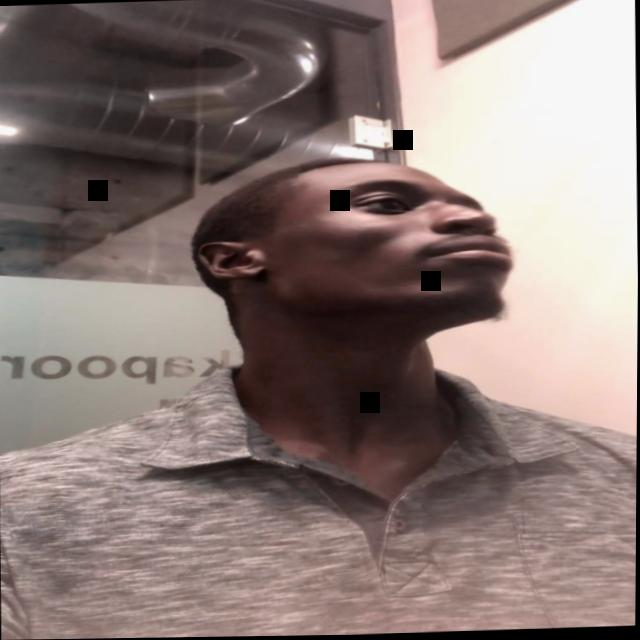NO-Mask: (228, 164, 521, 334)
